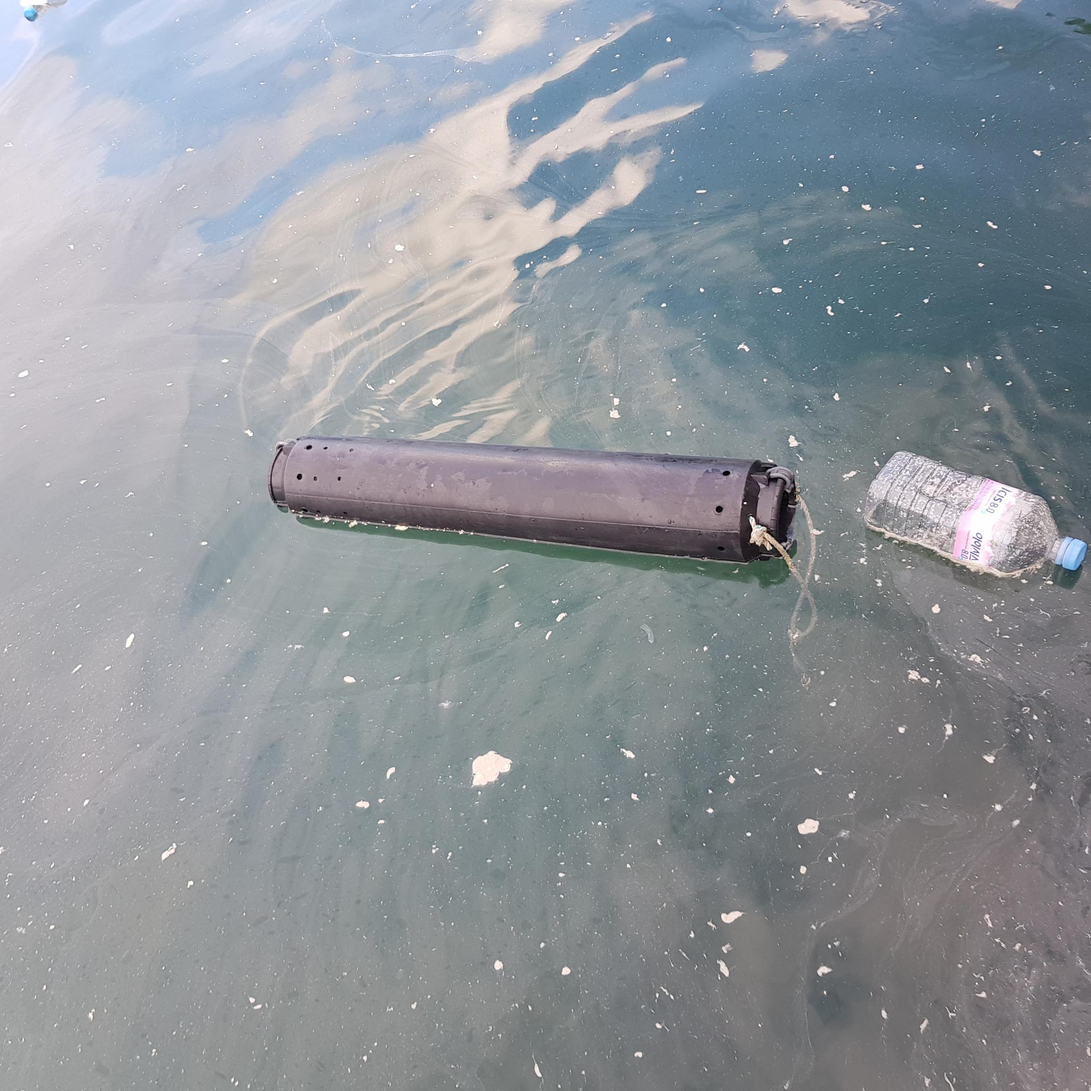sampah_terapung: (268, 436, 796, 564), (865, 451, 1088, 575), (748, 495, 819, 639), (20, 1, 48, 19)
